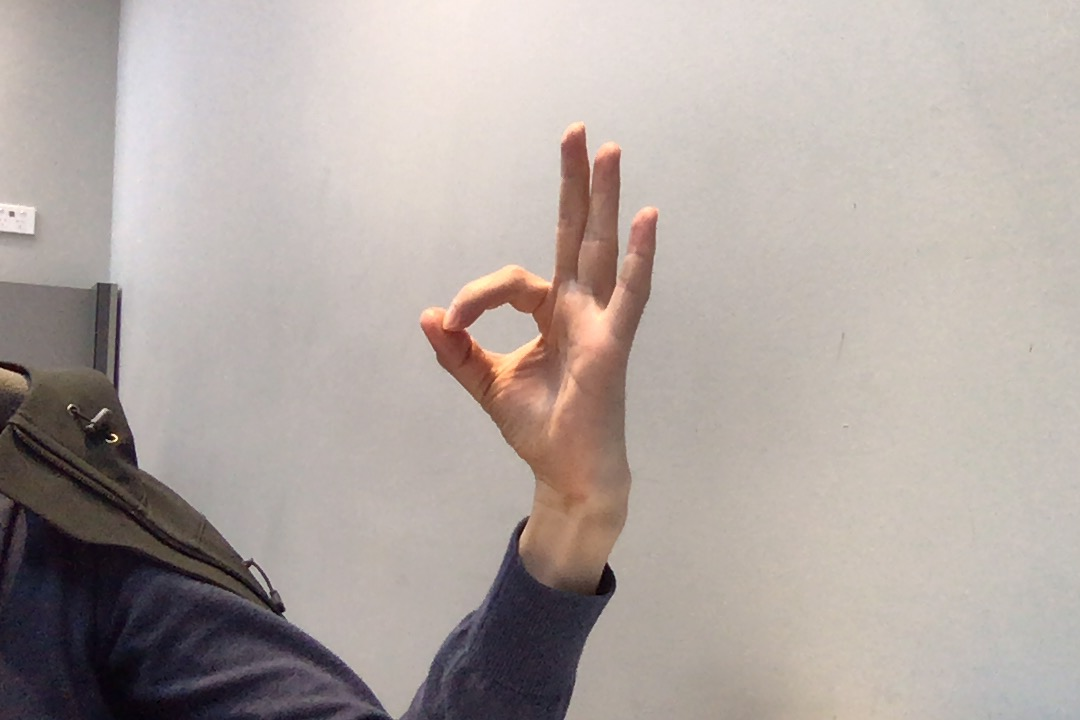oksign: (401, 114, 676, 494)
